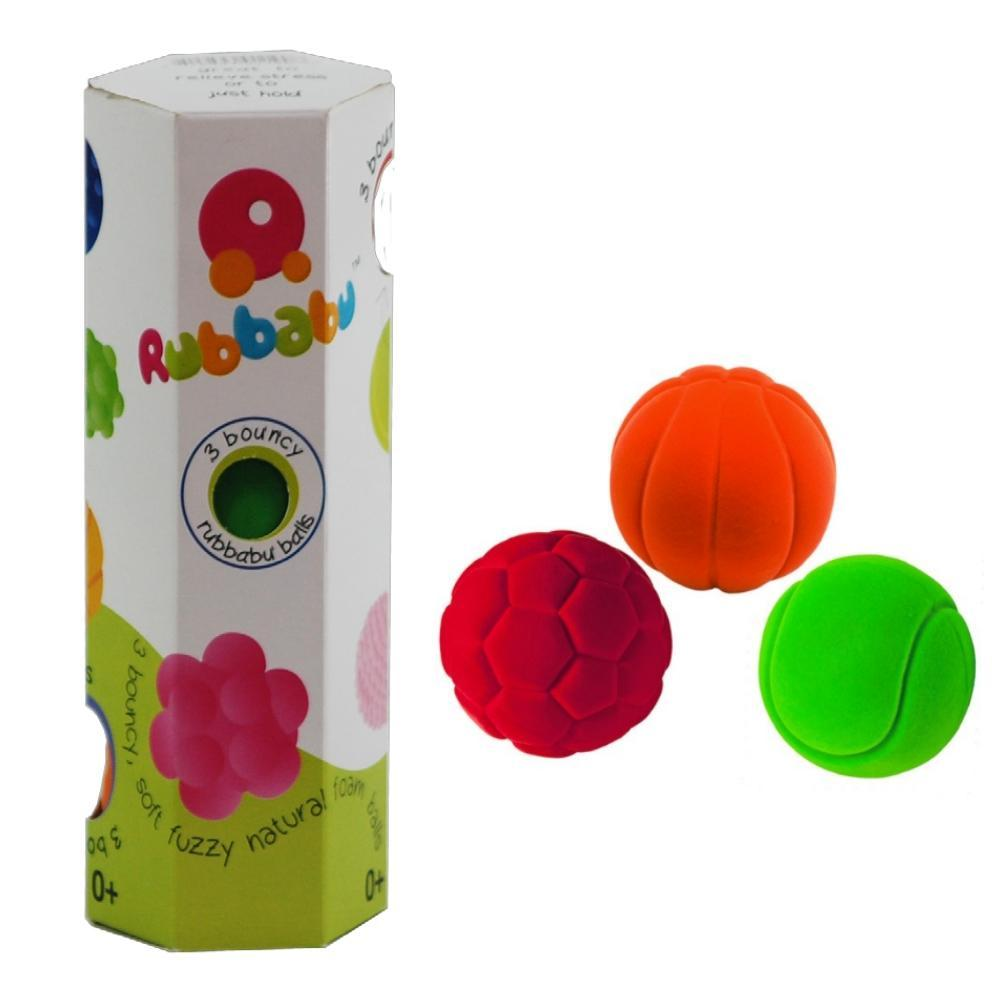red ball: (437, 527, 677, 763)
